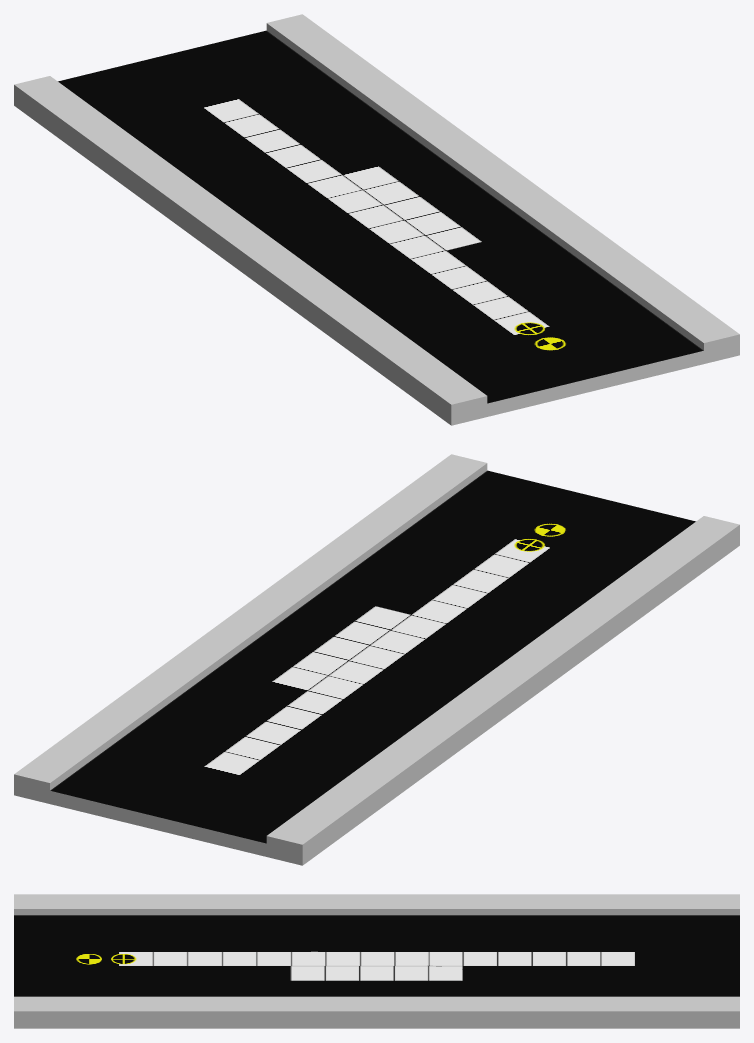
3 views of the same model, one above another, from view 1: azimuth 30°, elevation 25°; view 2: azimuth 150°, elevation 25°; view 3: azimuth 270°, elevation 25° (orthographic). The views are drawn at different scales.
Parts seen in each view (by area): view 1: Group1; view 2: Group1; view 3: Group1.
Boxes of the visible parts, x1,y1,x2,y2 form: Group1: (14, 14, 739, 425); Group1: (14, 454, 739, 865); Group1: (14, 894, 739, 1028).
Size of the model in its own units: 0.8 by 2.1 by 0.0556.
2 materials, 1 textured.
